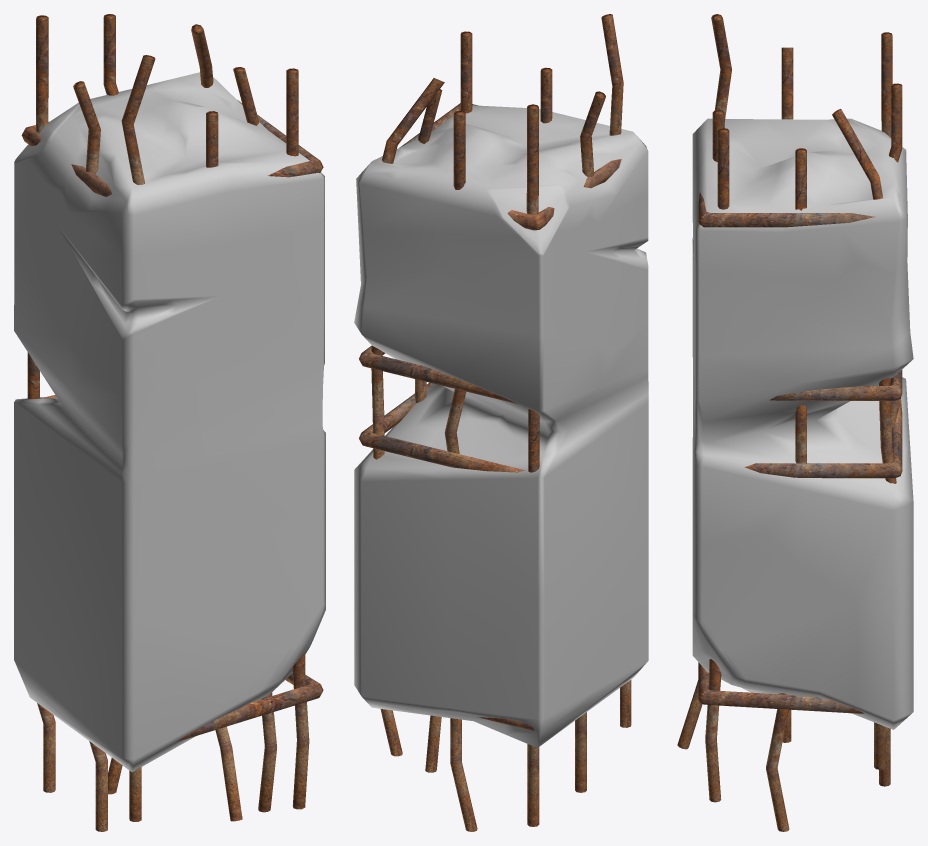
Rendered from Pillar_C.fbx.
3 renders of one model, left to right at view 1: azimuth 30°, elevation 25°; view 2: azimuth 150°, elevation 25°; view 3: azimuth 270°, elevation 25°, orthographic. The views are drawn at different scales.
Parts seen in each view (by area): view 1: polySurface9; view 2: polySurface9; view 3: polySurface9.
Boxes of the visible parts, bbox=[...] form: polySurface9: bbox=[14, 14, 325, 831]; polySurface9: bbox=[354, 14, 648, 831]; polySurface9: bbox=[677, 14, 913, 831].
Size of the model in its own units: 3.92 by 14.56 by 4.18.
